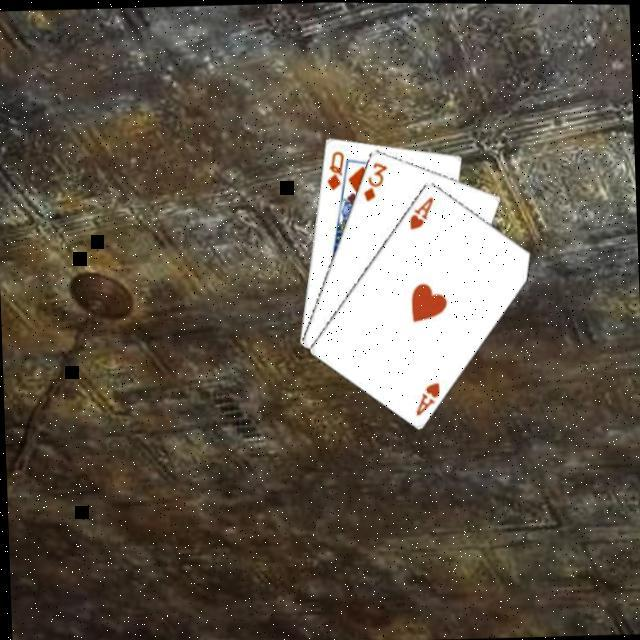3D: (359, 156, 392, 202)
AH: (411, 377, 444, 417), (406, 192, 437, 230)
QD: (322, 146, 348, 191)
